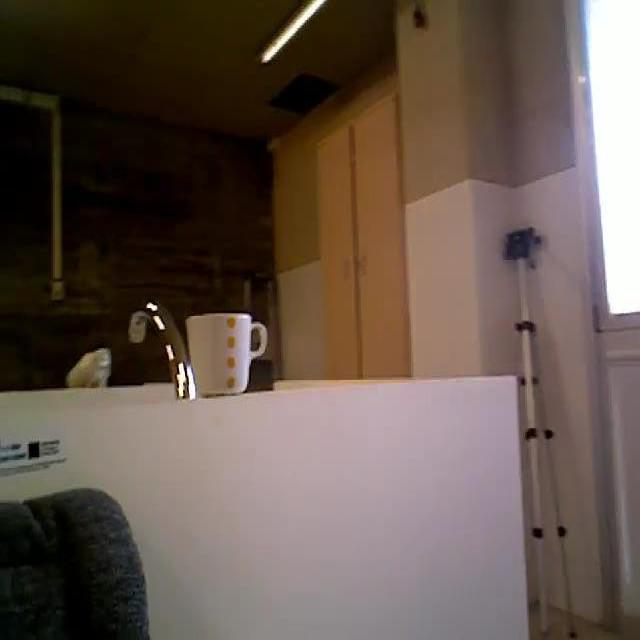cup: (183, 312, 273, 397)
